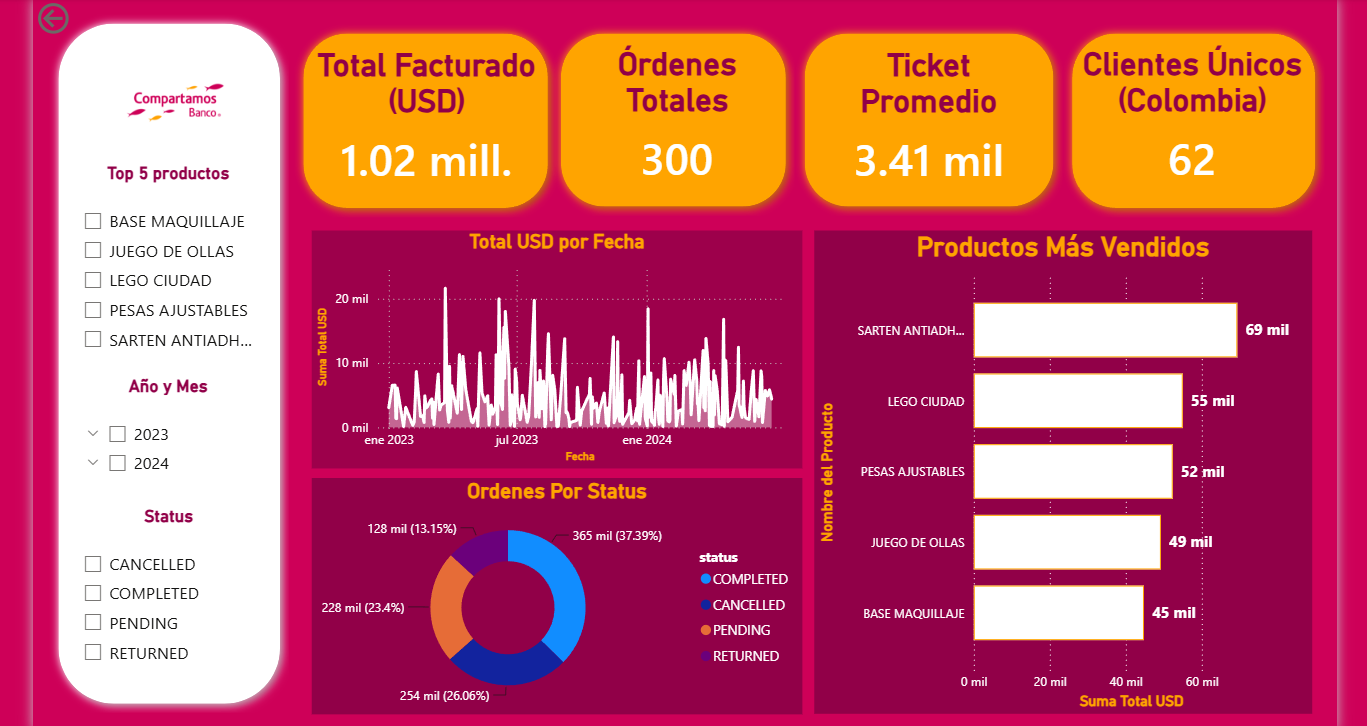

The dashboard page shown, as its layout file describes it:
{"tool":"powerbi","page":{"name":"Página 1","canvas":[1280,720],"ordinal":0},"visuals":[{"type":"shape","box":[16,16,235.6,685.9],"z":0},{"type":"image","box":[49.4,39.8,174.3,122.1],"z":1000},{"type":"shape","box":[256.6,26.1,258,189.4],"z":2000},{"type":"shape","box":[747.9,26.1,262.1,188],"z":3000},{"type":"shape","box":[1011.3,26.1,256.6,189.4],"z":4000},{"type":"cardVisual","title":"Total Facturado (USD)","fields":{"Data":["Sum(fact_ventas.total_amount_usd)"]},"box":[241.5,48,289.5,146.8],"z":5000},{"type":"cardVisual","title":"Ticket Promedio","fields":{"Data":["Avg(fact_ventas.total_amount_usd)"]},"box":[767.1,48,225,146.8],"z":6000},{"type":"cardVisual","title":"Clientes Únicos (Colombia)","fields":{"Data":["CountNonNull(dim_customers.customer_id)"]},"box":[1020.9,46.7,234.6,146.8],"z":7000},{"type":"lineChart","title":"Total USD por Fecha","fields":{"Y":["Sum(fact_ventas.total_amount_usd)"],"Category":["fact_ventas.order_date"]},"box":[273.1,227.8,481.6,233.3],"z":8000},{"type":"clusteredBarChart","title":"Productos Más Vendidos","fields":{"Category":["dim_products.product_name"],"Y":["Sum(fact_ventas.total_amount_usd)"]},"box":[767.1,227.8,488.5,474.8],"z":9000},{"type":"donutChart","title":"Ordenes Por Status","fields":{"Category":["fact_ventas.status"],"Y":["Sum(fact_ventas.order_id)"]},"box":[273.1,470.7,481.6,231.9],"z":10000},{"type":"slicer","title":"Top 5 productos","fields":{"Values":["dim_products.product_name"]},"box":[38.4,161.9,189.4,197.6],"z":11000},{"type":"actionButton","box":[0,0,100,40],"z":12000},{"type":"slicer","title":"Año y Mes","fields":{"Values":["fact_ventas.order_date.Variación.Jerarquía de fechas.Año","fact_ventas.order_date.Variación.Jerarquía de fechas.Mes"]},"box":[38.4,370.5,189.4,135.8],"z":13000},{"type":"slicer","title":"Status","fields":{"Values":["fact_ventas.status"]},"box":[38.4,506.3,189.4,161.9],"z":14000},{"type":"shape","box":[509.1,26.1,238.8,188],"z":15000},{"type":"cardVisual","title":"Órdenes Totales","fields":{"Data":["Count(fact_ventas.order_id)"]},"box":[516,46.7,231.9,146.8],"z":16000}]}

Visuals, with their boxes on the page's 1280x720 design canvas (x1, y1, x2, y2). These are canvas units, not pixel positions in the 1367x726 screenshot, which may show the page scaled, cropped or inside an application window:
shape: 16 16 252 702
image: 49 40 224 162
shape: 257 26 515 216
shape: 748 26 1010 214
shape: 1011 26 1268 216
"Total Facturado (USD)" cardVisual: 242 48 531 195
"Ticket Promedio" cardVisual: 767 48 992 195
"Clientes Únicos (Colombia)" cardVisual: 1021 47 1256 194
"Total USD por Fecha" lineChart: 273 228 755 461
"Productos Más Vendidos" clusteredBarChart: 767 228 1256 703
"Ordenes Por Status" donutChart: 273 471 755 703
"Top 5 productos" slicer: 38 162 228 360
actionButton: 0 0 100 40
"Año y Mes" slicer: 38 370 228 506
"Status" slicer: 38 506 228 668
shape: 509 26 748 214
"Órdenes Totales" cardVisual: 516 47 748 194
